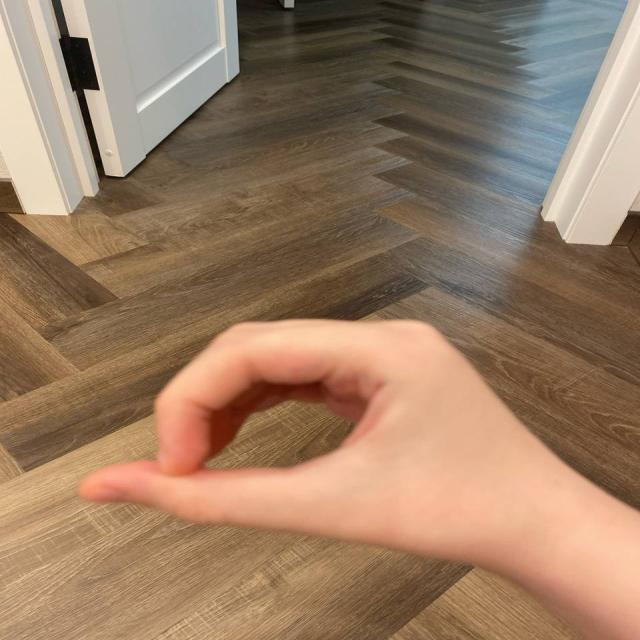e: (73, 298, 520, 562)
